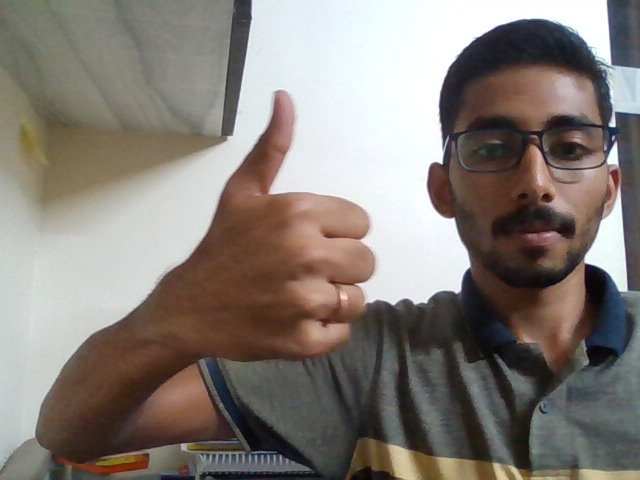Yes: (174, 77, 387, 380)
